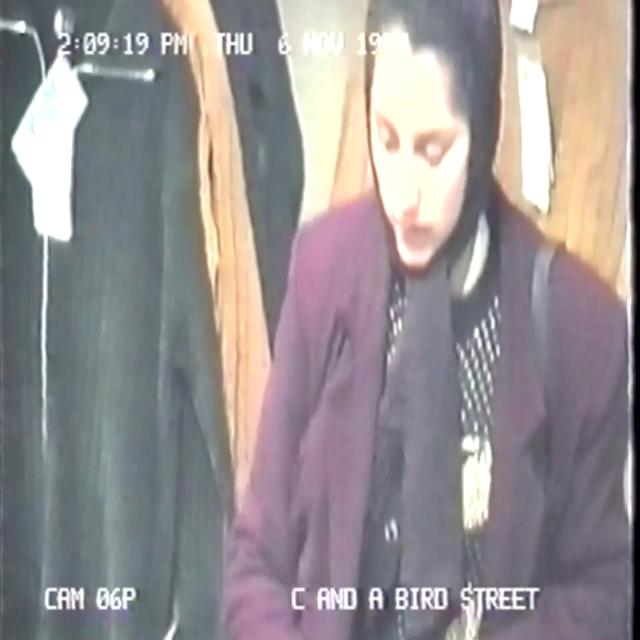normal: (215, 4, 640, 640)
